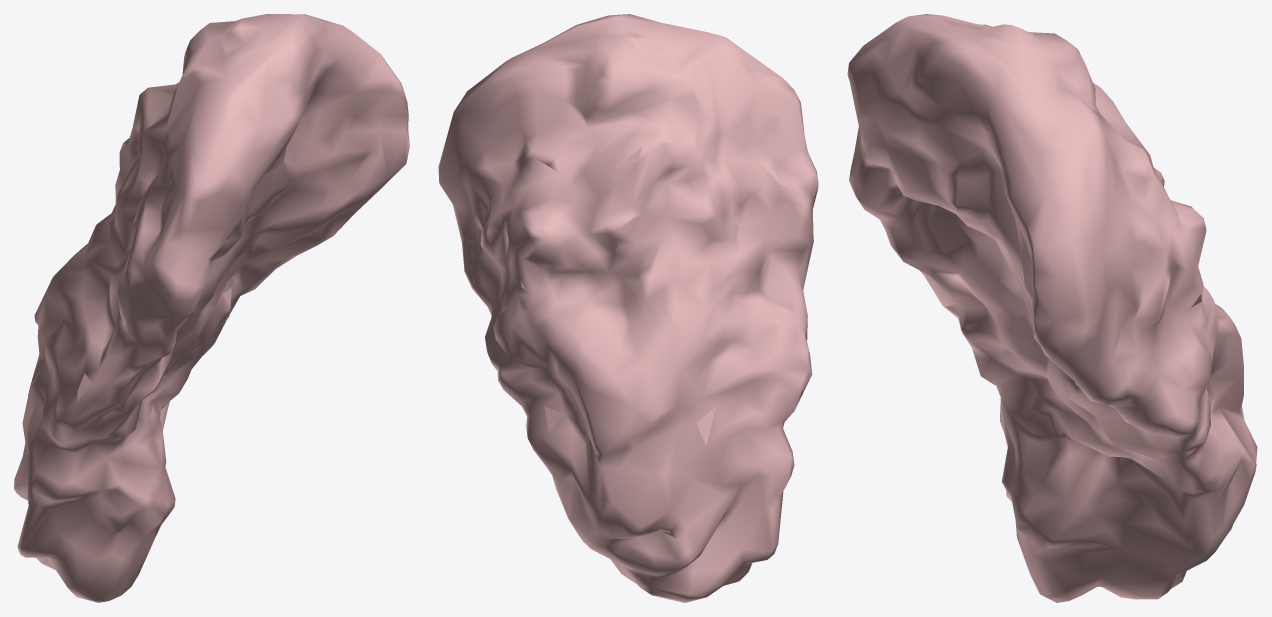
File: 3d-vh-m-palatine-tonsil-r-20.glb
The picture shows the model from 3 angles, left to right: view 1: azimuth 30°, elevation 25°; view 2: azimuth 150°, elevation 25°; view 3: azimuth 270°, elevation 25°; orthographic projection. The views are drawn at different scales.
Parts seen in each view (by area): view 1: VH_M_palatine_tonsil_R; view 2: VH_M_palatine_tonsil_R; view 3: VH_M_palatine_tonsil_R.
Boxes of the visible parts, x1=… form: VH_M_palatine_tonsil_R: x1=14, y1=14, x2=409, y2=602; VH_M_palatine_tonsil_R: x1=438, y1=14, x2=818, y2=602; VH_M_palatine_tonsil_R: x1=847, y1=14, x2=1257, y2=602.
Size of the model in its own units: 0.0168 by 0.0239 by 0.0139.
